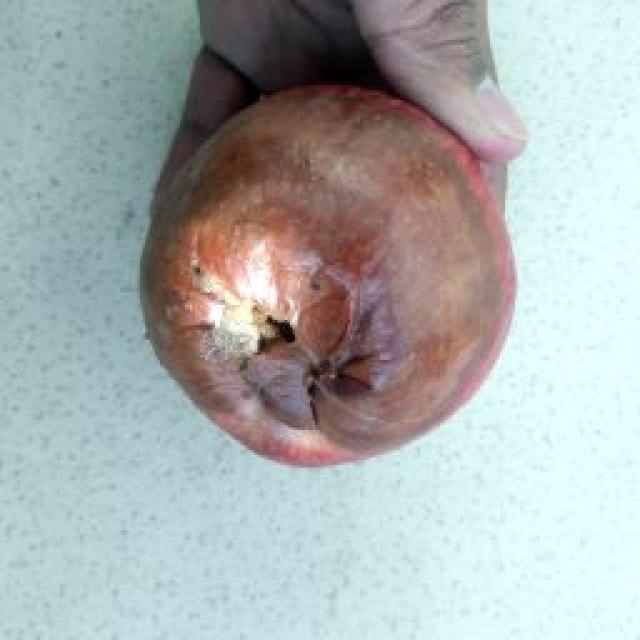Bad_Apple: (141, 85, 515, 464)
